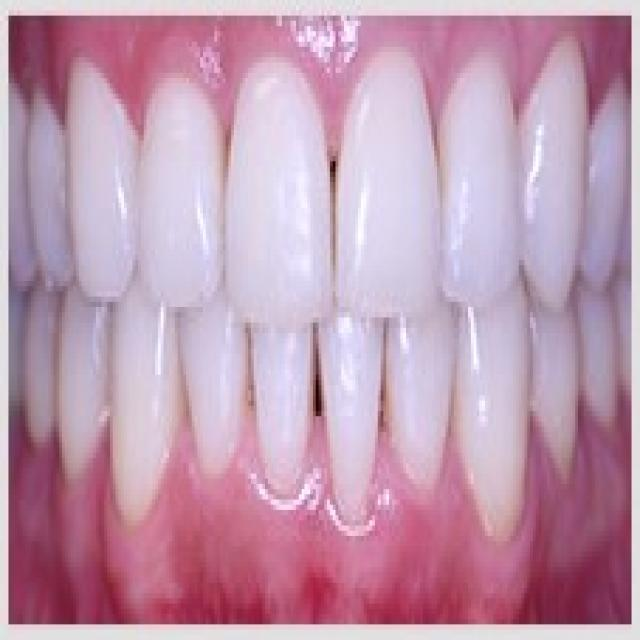tooth: (338, 52, 443, 323), (228, 73, 330, 328), (130, 47, 222, 317), (51, 68, 141, 291), (445, 276, 519, 536), (522, 10, 586, 296), (440, 73, 516, 296), (319, 322, 386, 530), (522, 281, 584, 484), (113, 312, 169, 494), (392, 318, 448, 494), (254, 344, 313, 494), (189, 291, 240, 453), (59, 312, 110, 453)
